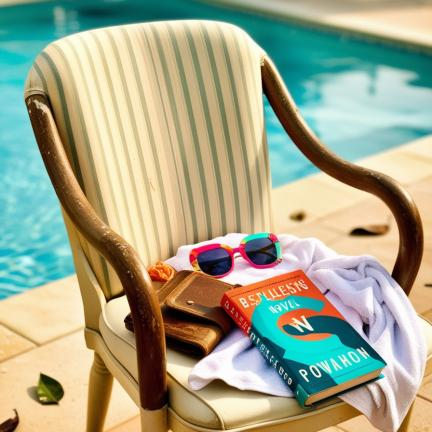occupied chair: (24, 20, 432, 432)
